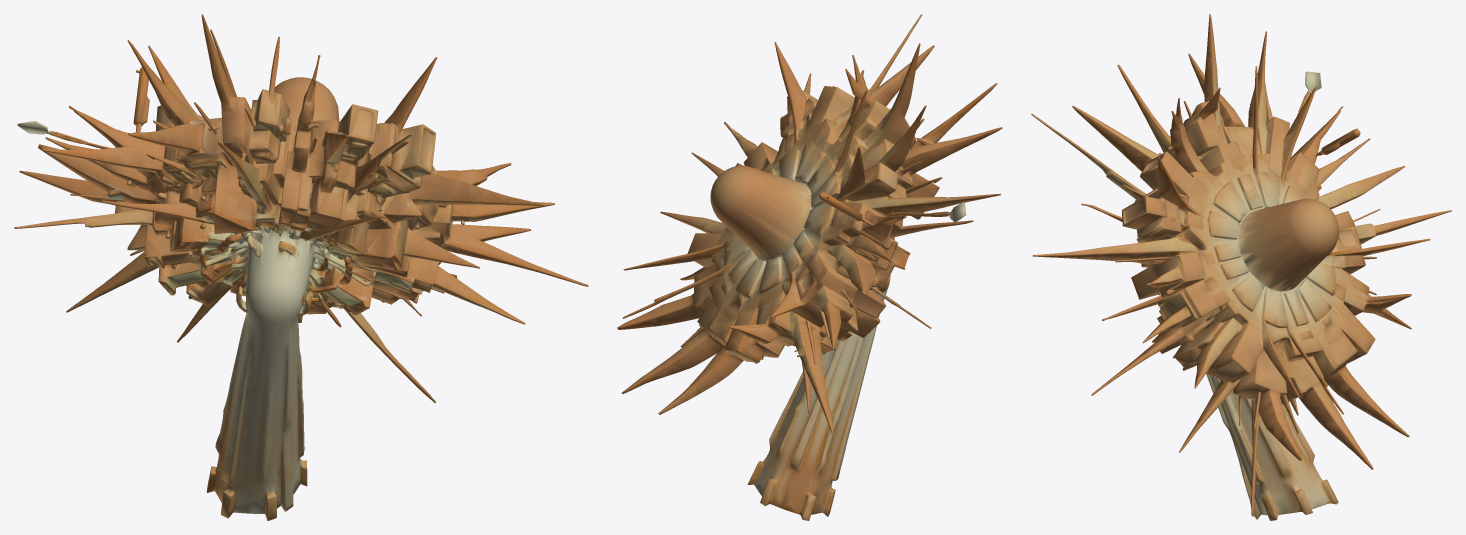
File: light_v.glb
The picture shows the model from 3 angles, left to right: view 1: azimuth 30°, elevation 25°; view 2: azimuth 150°, elevation 25°; view 3: azimuth 270°, elevation 25°; orthographic projection. The views are drawn at different scales.
Visible parts, largest first — view 1: tripo_node_4467557e-70f4-4f12-ab6c-5a10a200fd9a; view 2: tripo_node_4467557e-70f4-4f12-ab6c-5a10a200fd9a; view 3: tripo_node_4467557e-70f4-4f12-ab6c-5a10a200fd9a.
Boxes of the visible parts, box(x1,y1,x2,y2) form: tripo_node_4467557e-70f4-4f12-ab6c-5a10a200fd9a: box(14, 14, 588, 520); tripo_node_4467557e-70f4-4f12-ab6c-5a10a200fd9a: box(617, 14, 1002, 520); tripo_node_4467557e-70f4-4f12-ab6c-5a10a200fd9a: box(1031, 14, 1451, 520).
Bounding box in the file's own units: 0.8761 × 1.03 × 0.8429.
Materials: 1 (1 with a texture image).
